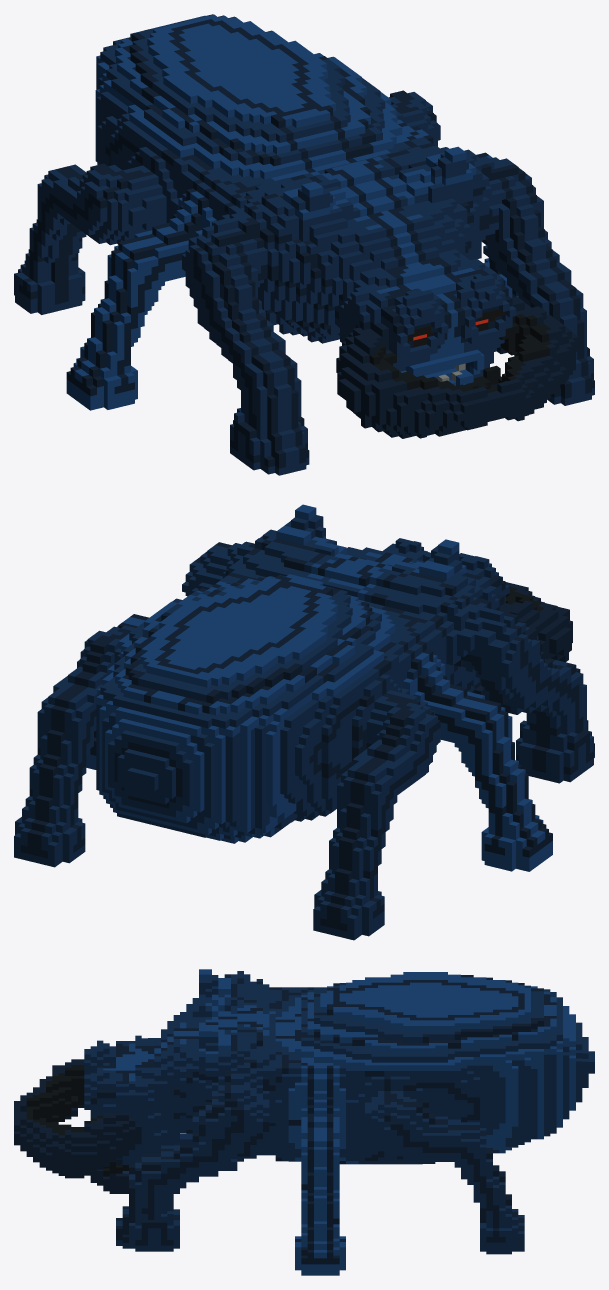
Rendered from beetle_attack_blue_v1.0-3.obj.
3 renders of one model, top to bottom at view 1: azimuth 30°, elevation 25°; view 2: azimuth 150°, elevation 25°; view 3: azimuth 270°, elevation 25°, orthographic. The views are drawn at different scales.
Bounding box in the file's own units: 6.8 × 3.2 × 9.1.
Materials: 1 (1 with a texture image).
